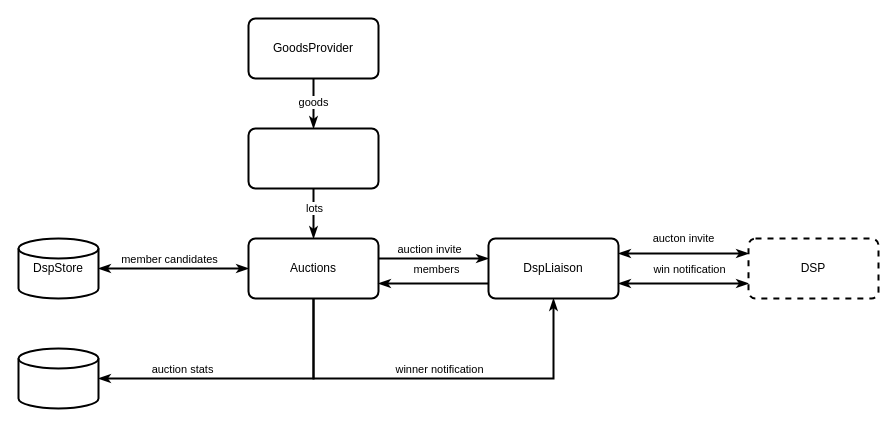
This 896x426 diagram has some shape labels left out. The centre of each missing label's shape, as x and y in pixels:
History: the point at 58,378
LotsProvider: the point at 313,158
